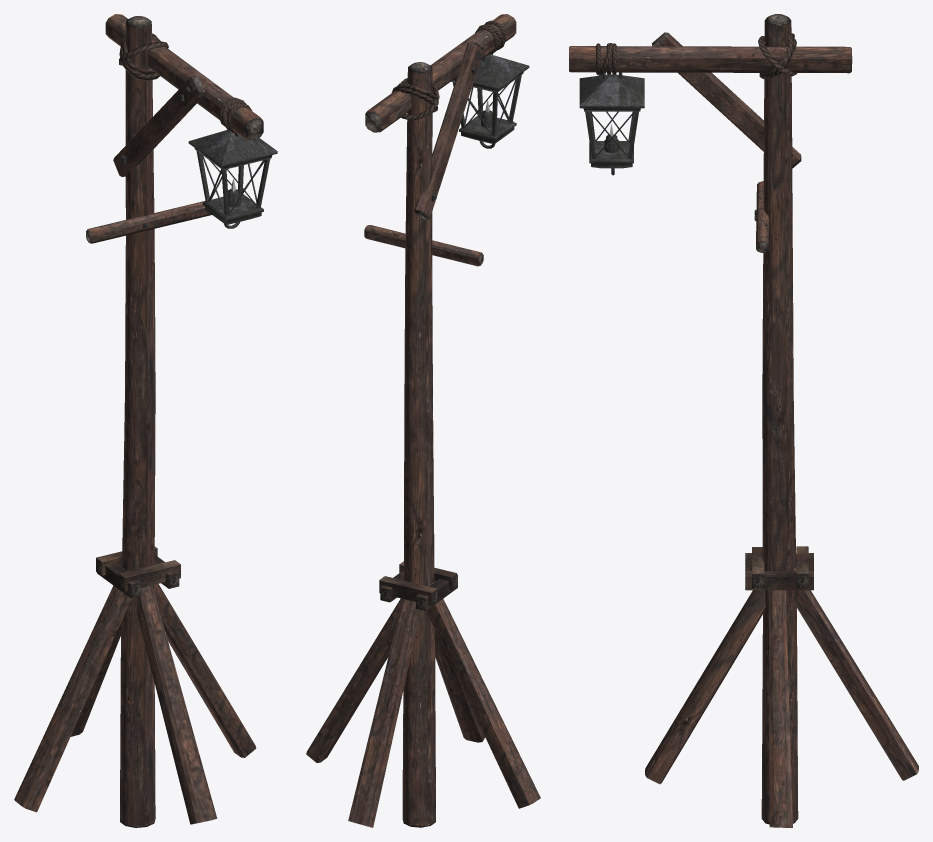
Rendered from LightPole_fbx.fbx.
3 views of the same model, side by side, from view 1: azimuth 30°, elevation 25°; view 2: azimuth 150°, elevation 25°; view 3: azimuth 270°, elevation 25° (orthographic). The views are drawn at different scales.
Parts seen in each view (by area): view 1: LightPole; view 2: LightPole; view 3: LightPole.
Part boxes in pixels (x1,y1,x2,y2): LightPole: (14,14,277,827); LightPole: (306,14,540,827); LightPole: (569,14,918,827).
Bounding box in the file's own units: 98.9 × 319 × 126.
